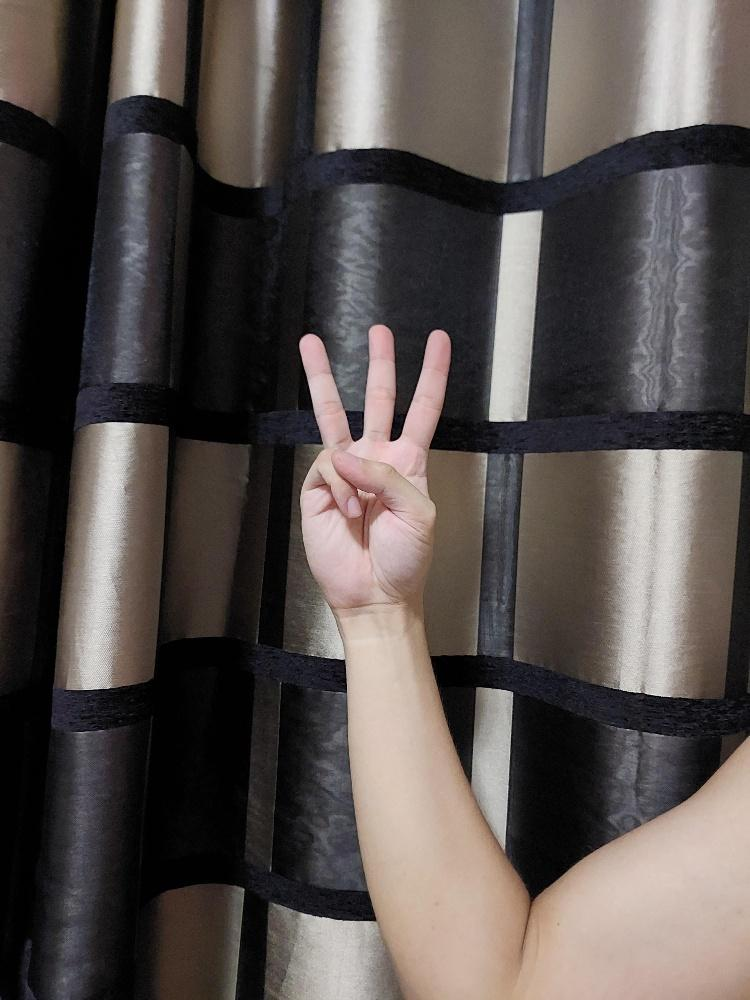w: (296, 322, 452, 611)
